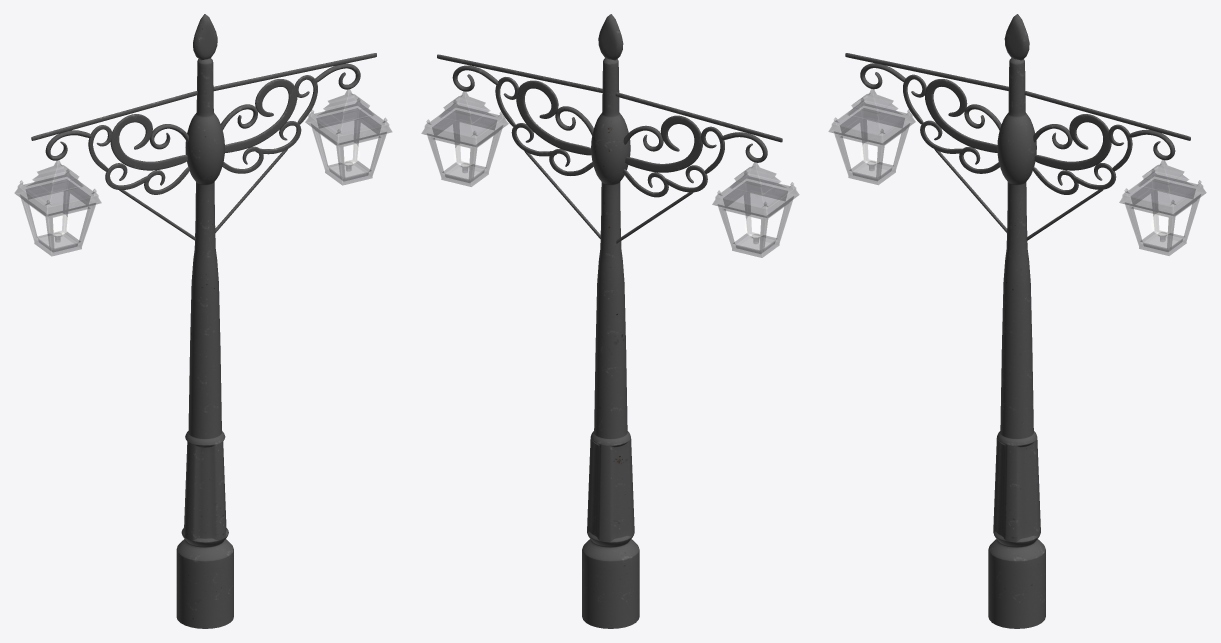
File: lamp1.glb
3 renders of one model, left to right at view 1: azimuth 30°, elevation 25°; view 2: azimuth 150°, elevation 25°; view 3: azimuth 330°, elevation 25°, orthographic.
Parts seen in each view (by area): view 1: pole_2side_01_pole_2side_1_0, case1_lamp01_0.001, case1_lamp01_0.002; view 2: pole_2side_01_pole_2side_1_0, case1_lamp01_0.002, case1_lamp01_0.001; view 3: pole_2side_01_pole_2side_1_0, case1_lamp01_0.002, case1_lamp01_0.001.
Part boxes in pixels (<box>): pole_2side_01_pole_2side_1_0: <box>31,14,376,628</box>; case1_lamp01_0.001: <box>305,89,391,185</box>; case1_lamp01_0.002: <box>15,160,101,256</box>; pole_2side_01_pole_2side_1_0: <box>437,14,782,628</box>; case1_lamp01_0.002: <box>712,162,799,257</box>; case1_lamp01_0.001: <box>421,91,508,186</box>; pole_2side_01_pole_2side_1_0: <box>845,14,1190,628</box>; case1_lamp01_0.002: <box>828,89,915,184</box>; case1_lamp01_0.001: <box>1119,160,1206,255</box>.
Bounding box in the file's own units: 2.94 × 4.88 × 0.4719.
Materials: 2 (2 with a texture image).
